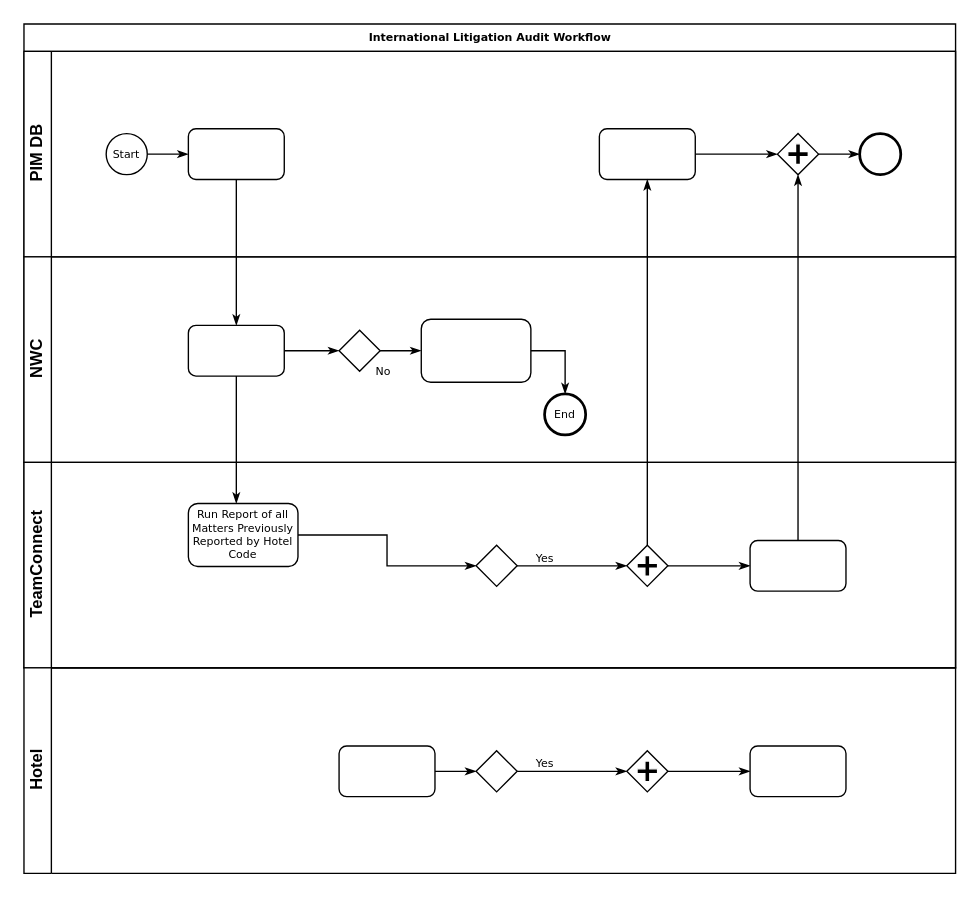
Some shapes in this 980 by 897 pixel diagram are drawn without their labels. Here are the shapes that lost their labels. From the top down, the centre of each, then its label:
point (235, 153): Report Generate
point (235, 350): Upload Report/Tbl to NWC
point (359, 350): Trigger
point (475, 350): Generate ind. hotel audit notification Emails to GM
